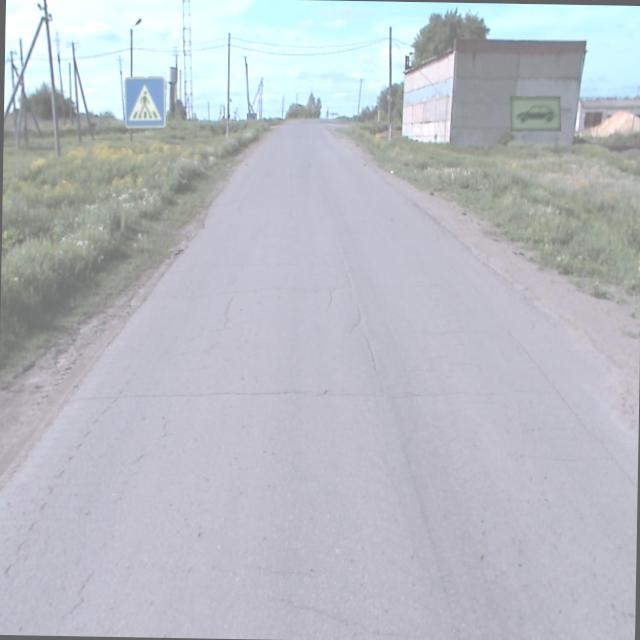road: (0, 118, 637, 640)
